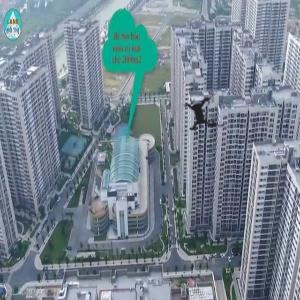drone: (164, 75, 244, 155)
